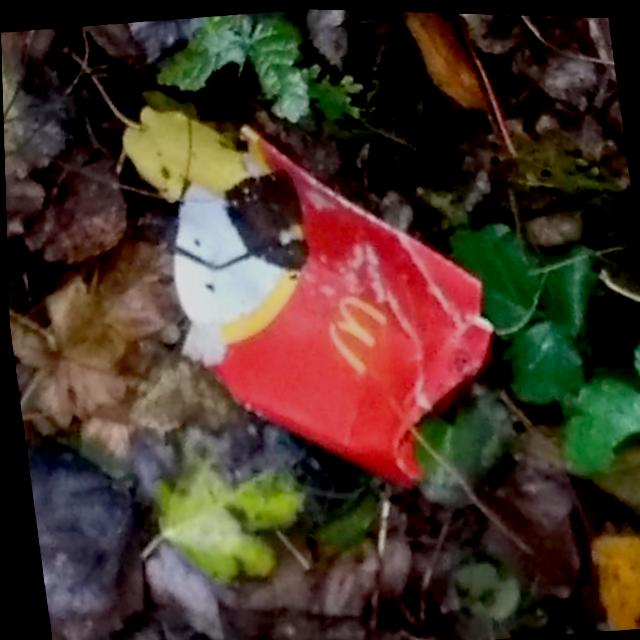Paper: (146, 95, 519, 512)
